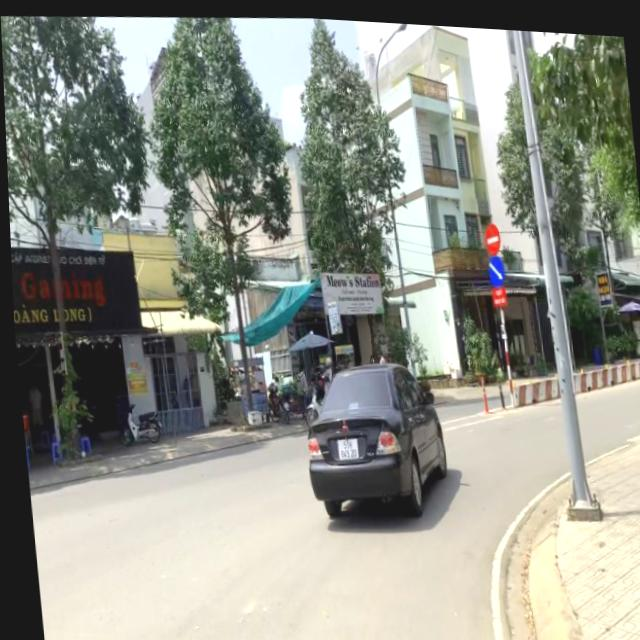Cam di nguoc chieu: (480, 215, 500, 250)
Vong chuong ngai vat sang phai: (484, 246, 504, 284)
